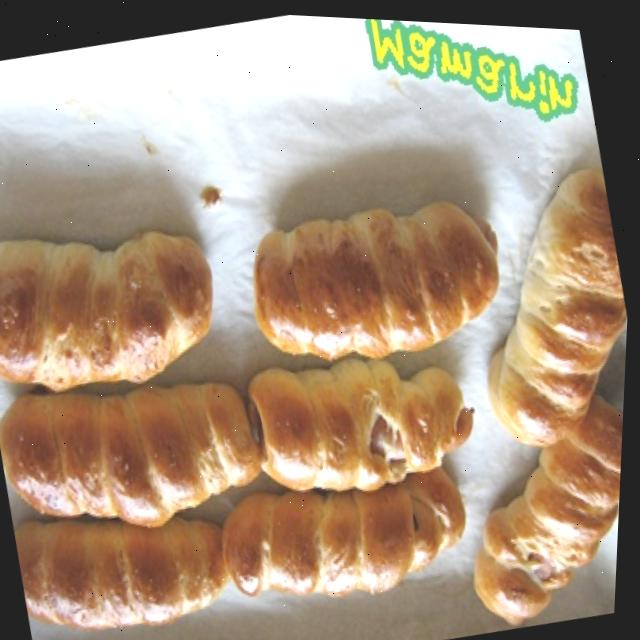三明治: (350, 182, 634, 432)
